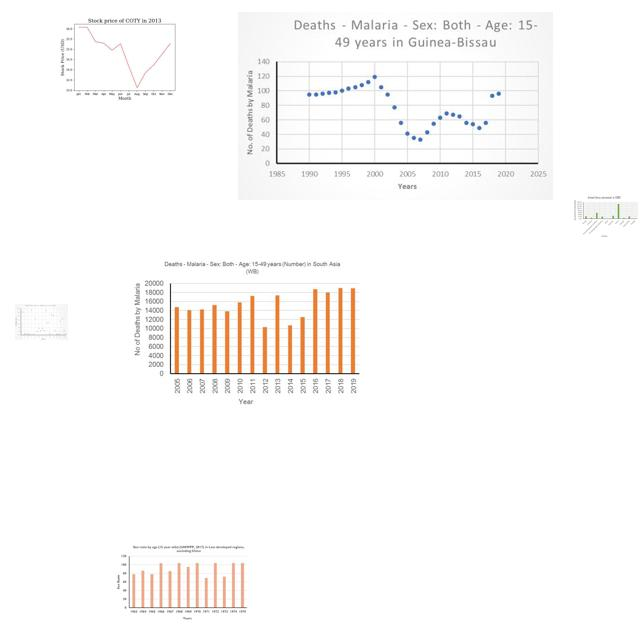Graph: (238, 12, 553, 200), (130, 257, 363, 410), (58, 8, 188, 106), (114, 541, 252, 622), (573, 195, 639, 238), (15, 304, 68, 340)
